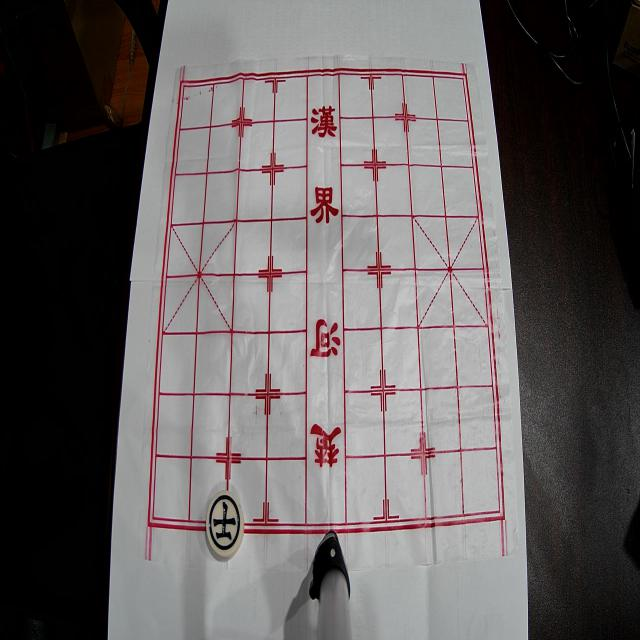black-guard: (206, 490, 244, 558)
